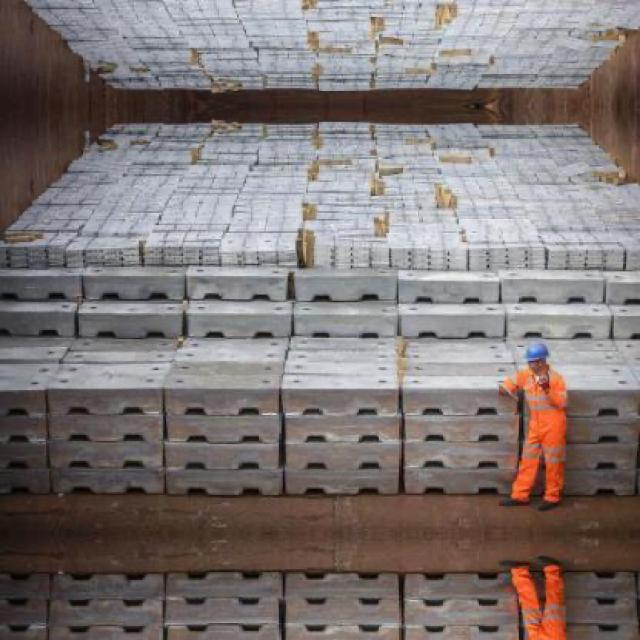helmet: (523, 341, 554, 376)
